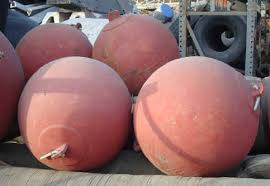buoy: (134, 55, 261, 178), (18, 56, 133, 172), (91, 15, 180, 93), (15, 24, 91, 95)
